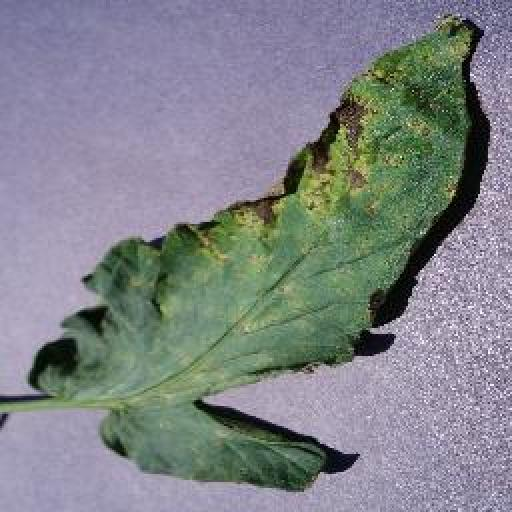Septoria: (39, 11, 474, 493)
